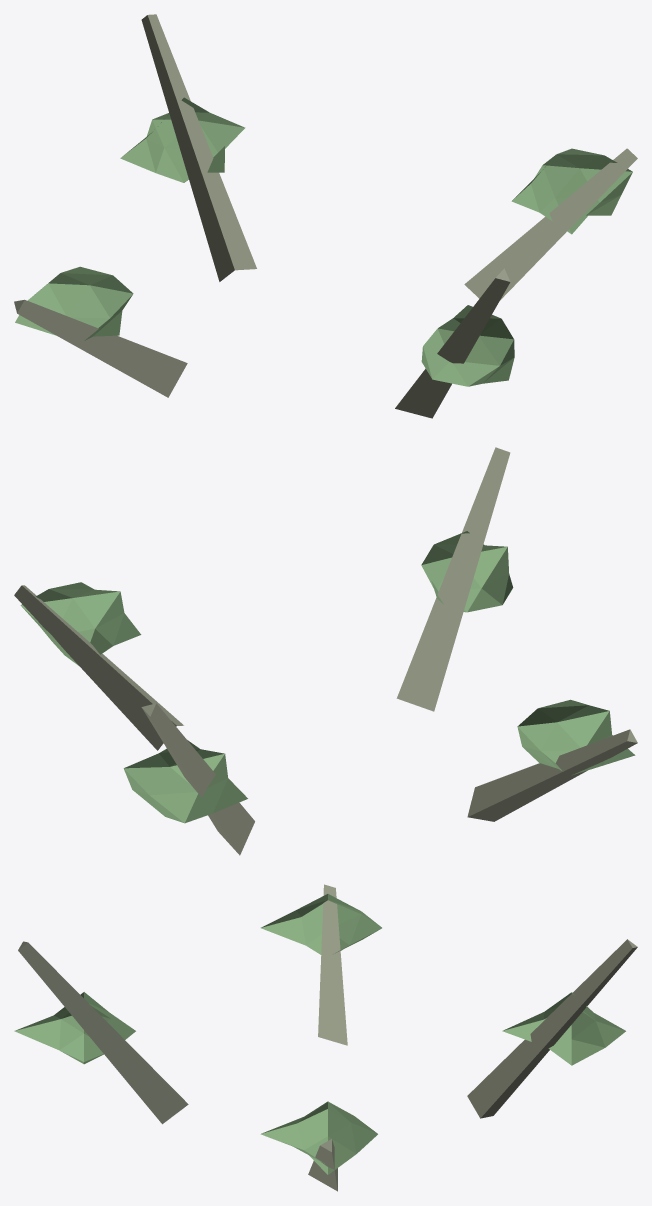
Rendered from bramble_v17.glb.
3 views of the same model, one above another, from view 1: azimuth 30°, elevation 25°; view 2: azimuth 150°, elevation 25°; view 3: azimuth 270°, elevation 25° (orthographic). The views are drawn at different scales.
Visible parts, largest first — view 1: lod0; view 2: lod0; view 3: lod0.
Boxes of the visible parts, left/top/right/bottom form: lod0: left=14, top=14, right=637, bottom=418; lod0: left=14, top=447, right=637, bottom=855; lod0: left=14, top=884, right=637, bottom=1191.
Size of what is drawn, in the model's own units: 0.7777 by 0.2535 by 0.7862.
